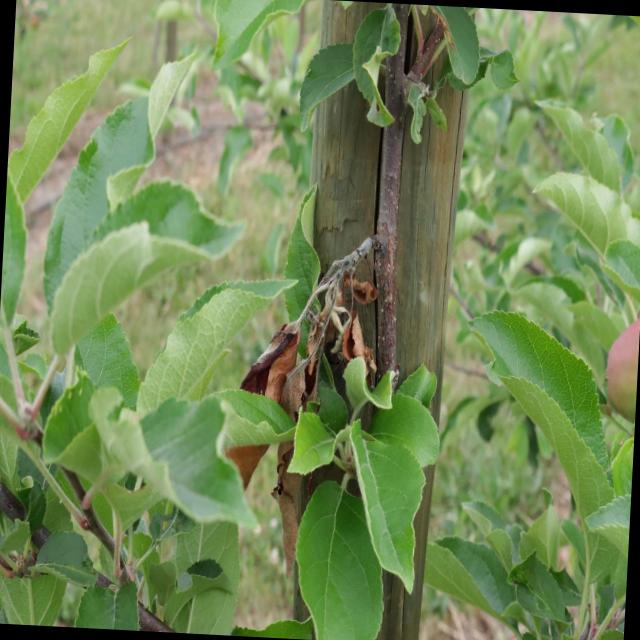-FireBlight-: (251, 252, 392, 392)
